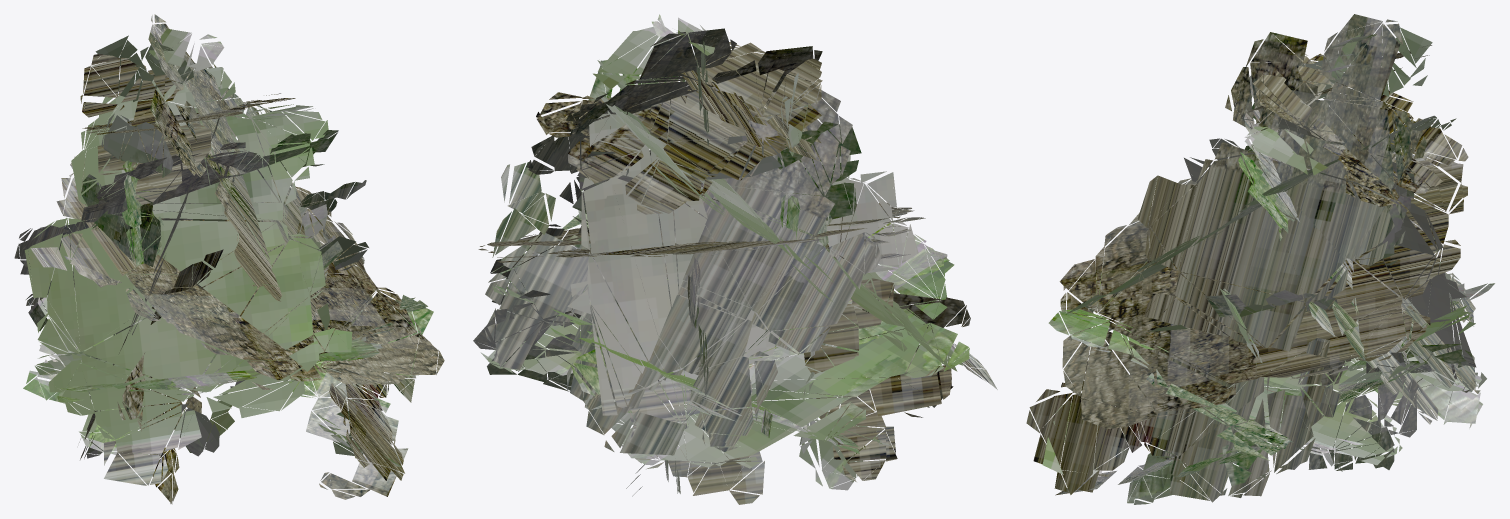
3 views of the same model, side by side, from view 1: azimuth 30°, elevation 25°; view 2: azimuth 150°, elevation 25°; view 3: azimuth 270°, elevation 25° (orthographic). The views are drawn at different scales.
Parts seen in each view (by area): view 1: pMesh1; view 2: pMesh1; view 3: pMesh1.
Boxes of the visible parts, left/top/right/bottom form: pMesh1: left=14, top=14, right=444, bottom=504; pMesh1: left=473, top=14, right=997, bottom=504; pMesh1: left=1026, top=14, right=1494, bottom=504.
Size of the model in its own units: 61.01 by 59.68 by 58.75.
